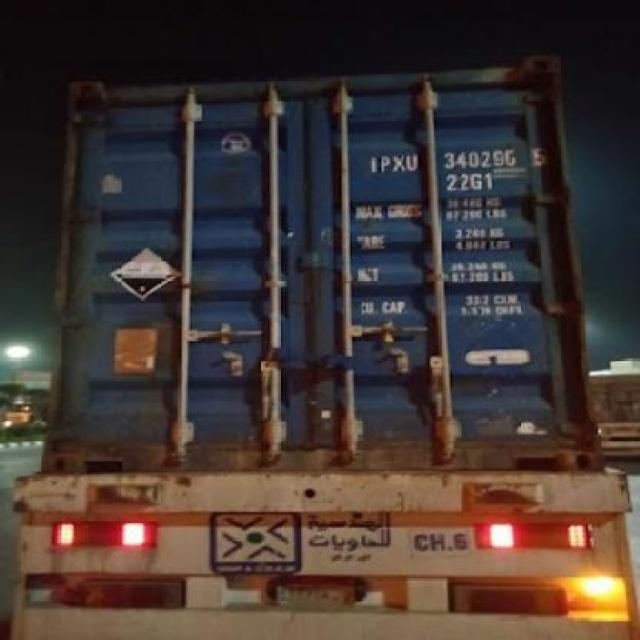ISO: (444, 172, 492, 192)
container_number: (371, 147, 536, 170)
